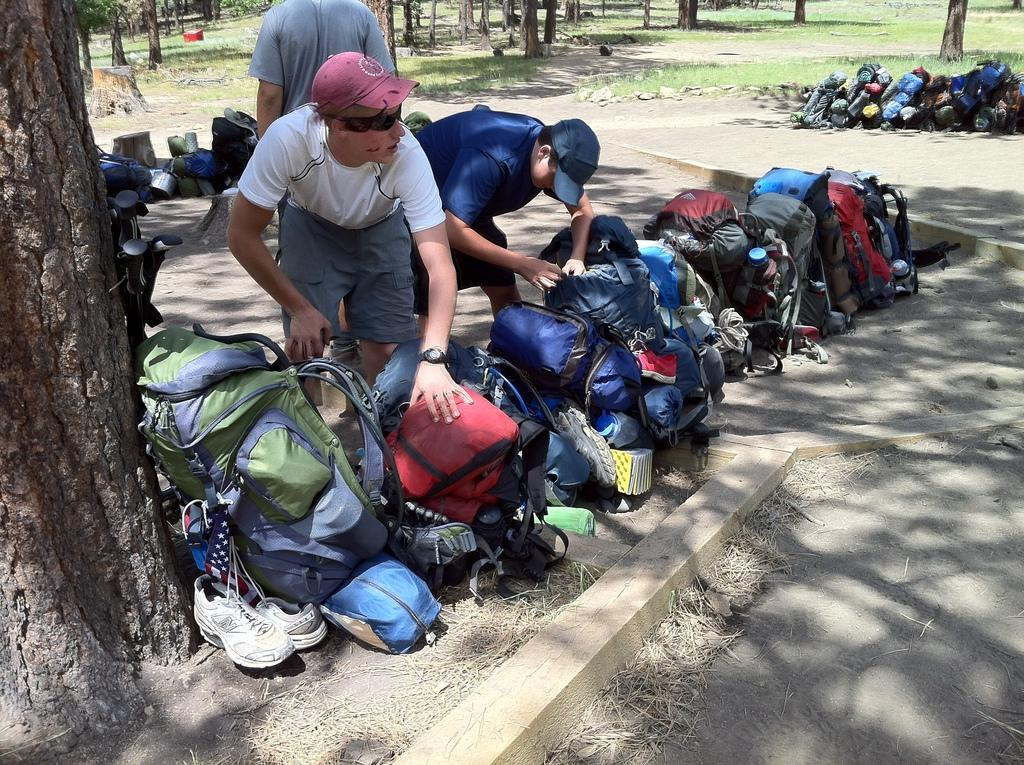Luggage-and-bags: (134, 164, 963, 656), (389, 368, 553, 570), (99, 107, 258, 236), (791, 57, 1023, 129)
